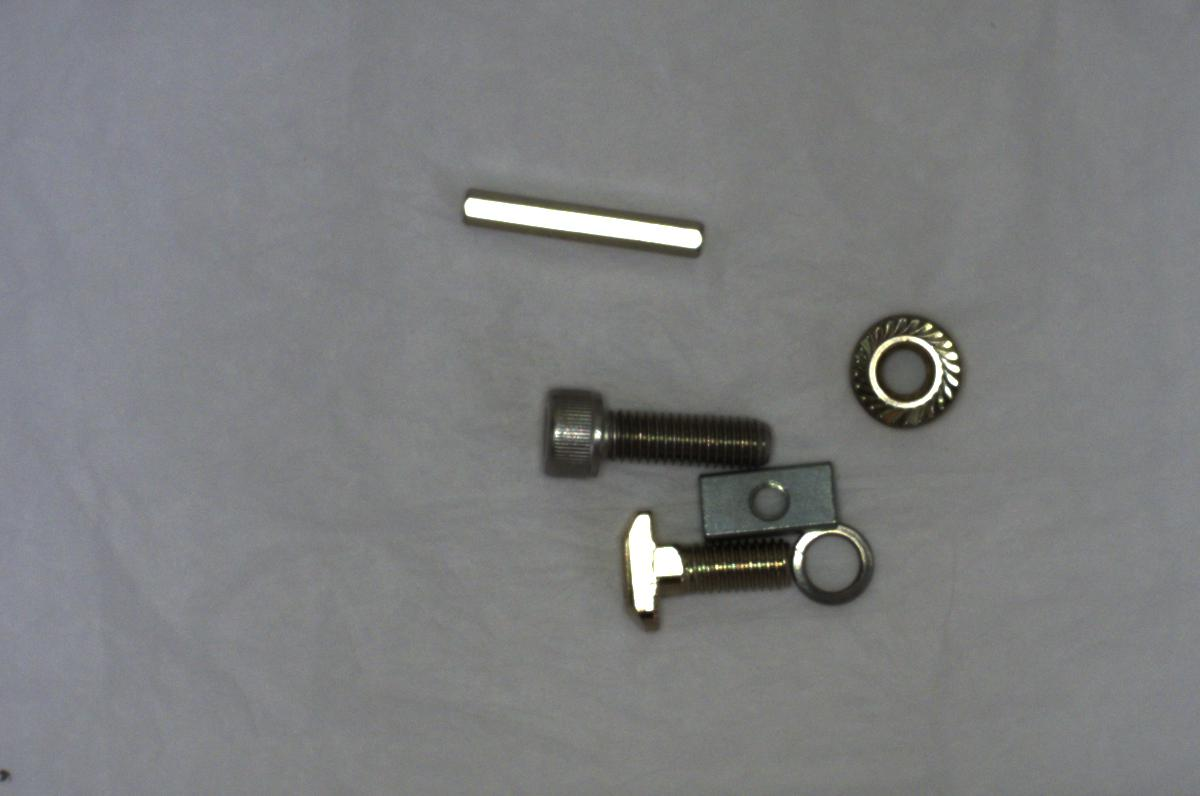Double hexagonal column: (456, 185, 715, 268)
Flange nut: (828, 304, 975, 437)
Hexagon screw: (525, 383, 778, 489)
Rectangular nut: (692, 458, 851, 540)
Spring washer: (785, 522, 882, 608)
T-shaped screw: (608, 496, 801, 628)
